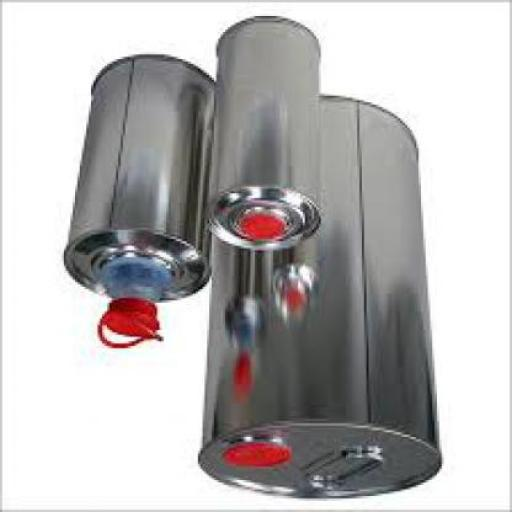metal: (196, 104, 442, 504), (62, 55, 212, 307), (203, 16, 318, 255)
